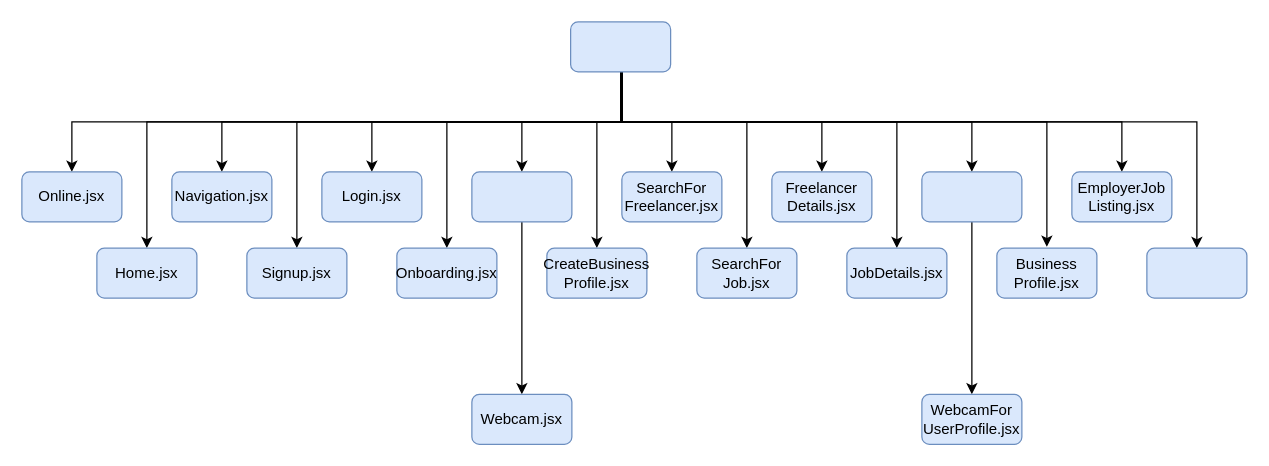
Image size: 1269x466. Some labels were removed from this diagram. The shapes that lost their labels are listed below. From the top down, each one's box as (x1, y1, x2, y2) in pixels, then its label:
(569, 21, 671, 72): App.js
(471, 171, 572, 222): CreateUser Profile.jsx
(921, 171, 1022, 222): UserProfile.jsx
(1146, 247, 1247, 298): Footer.jsx
